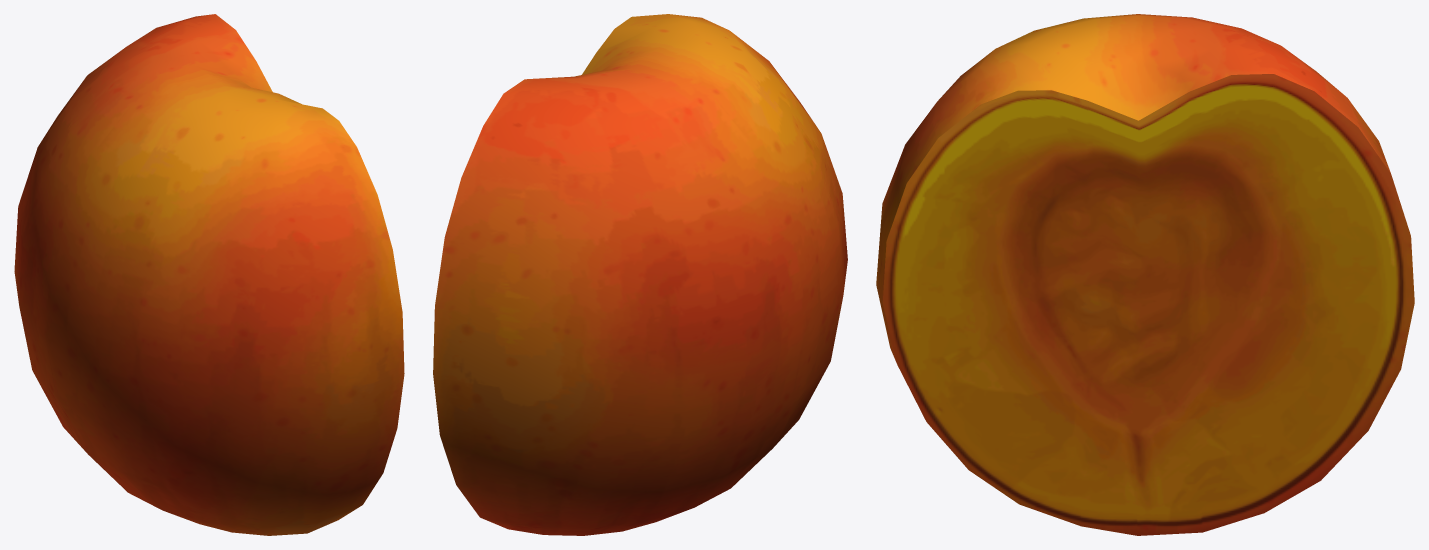
Rendered from SM_PeachCutA.fbx.
3 views of the same model, side by side, from view 1: azimuth 30°, elevation 25°; view 2: azimuth 150°, elevation 25°; view 3: azimuth 270°, elevation 25° (orthographic). The views are drawn at different scales.
Visible parts, largest first — view 1: SM_PeachCutA; view 2: SM_PeachCutA; view 3: SM_PeachCutA.
Boxes of the visible parts, <box> form: SM_PeachCutA: <box>14,14,404,535</box>; SM_PeachCutA: <box>433,14,847,535</box>; SM_PeachCutA: <box>876,14,1414,535</box>.
Bounding box in the file's own units: 6.72 × 12.47 × 13.05.
